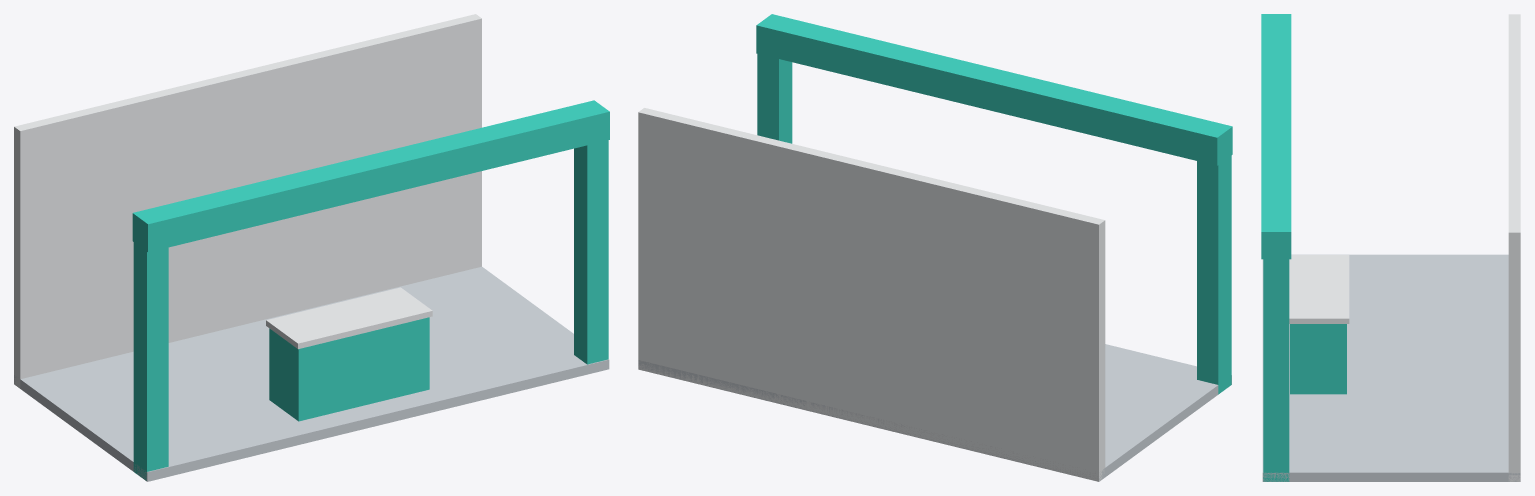
The picture shows the model from 3 angles, left to right: view 1: azimuth 30°, elevation 25°; view 2: azimuth 150°, elevation 25°; view 3: azimuth 270°, elevation 25°; orthographic projection. The views are drawn at different scales.
Parts seen in each view (by area): view 1: Exhibition Booth Concept; view 2: Exhibition Booth Concept; view 3: Exhibition Booth Concept.
Part boxes in pixels (box(x1,y1,x2,y2)): Exhibition Booth Concept: box(14, 14, 609, 481); Exhibition Booth Concept: box(638, 14, 1232, 481); Exhibition Booth Concept: box(1261, 14, 1520, 481).
Bounding box in the file's own units: 6 × 3.2 × 3.01.
